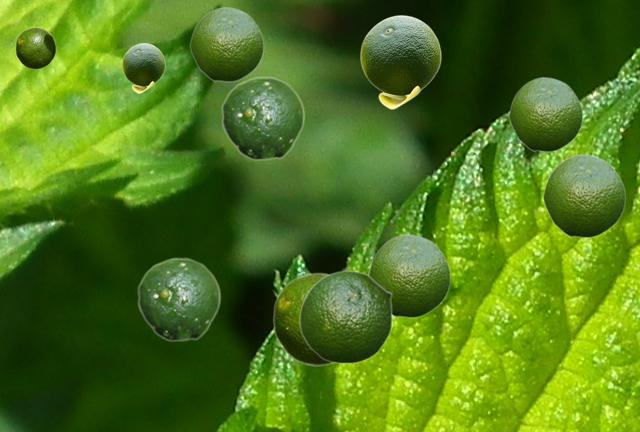calamansi: (299, 270, 392, 363), (360, 15, 440, 108), (137, 257, 220, 341), (542, 153, 625, 237), (221, 76, 304, 160), (368, 233, 450, 317), (508, 76, 582, 151), (189, 6, 263, 81), (272, 272, 331, 365), (122, 43, 164, 92), (15, 27, 55, 68)
